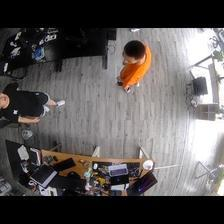normal: (1, 81, 65, 126), (118, 37, 153, 93)
